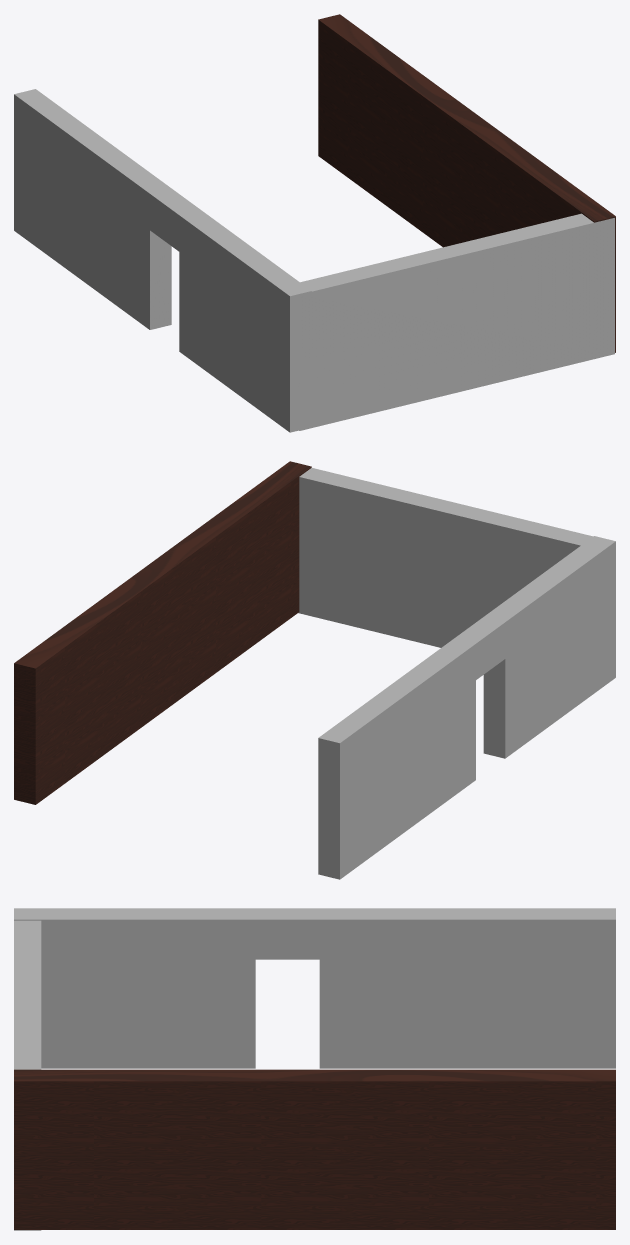
Rendered from Walls.fbx.
The picture shows the model from 3 angles, top to bottom: view 1: azimuth 30°, elevation 25°; view 2: azimuth 150°, elevation 25°; view 3: azimuth 270°, elevation 25°; orthographic projection. The views are drawn at different scales.
Parts seen in each view (by area): view 1: Wall, Wall__2_, Wall__1_; view 2: Wall__2_, Wall__1_, Wall; view 3: Wall__1_, Wall__2_, Wall.
Part boxes in pixels (x1,y1,x2,y2): Wall: (299, 213, 614, 430); Wall__2_: (14, 89, 311, 432); Wall__1_: (318, 14, 615, 352); Wall__2_: (318, 536, 615, 879); Wall__1_: (14, 461, 311, 804); Wall: (298, 468, 593, 647); Wall__1_: (14, 1069, 615, 1229); Wall__2_: (14, 908, 615, 1068); Wall: (14, 920, 41, 1230).
Bounding box in the file's own units: 1500 × 605 × 2200.
